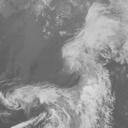cyclone: (57, 31, 104, 87)
